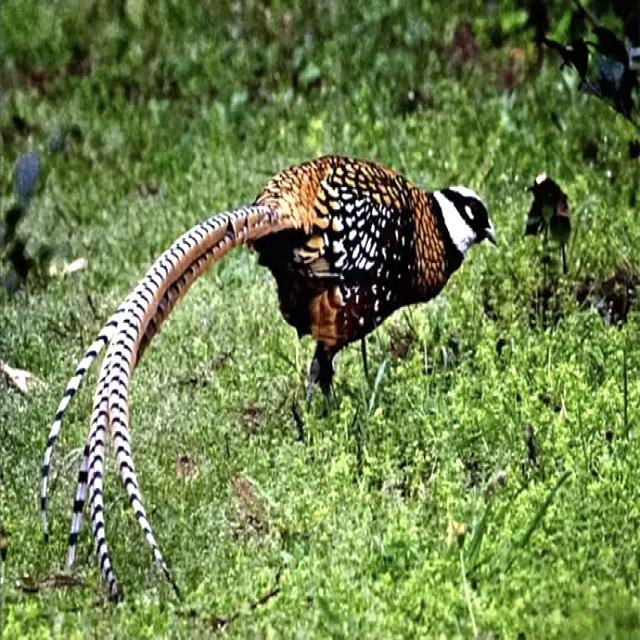Reeves-s Pheasant: (40, 206, 273, 601)
